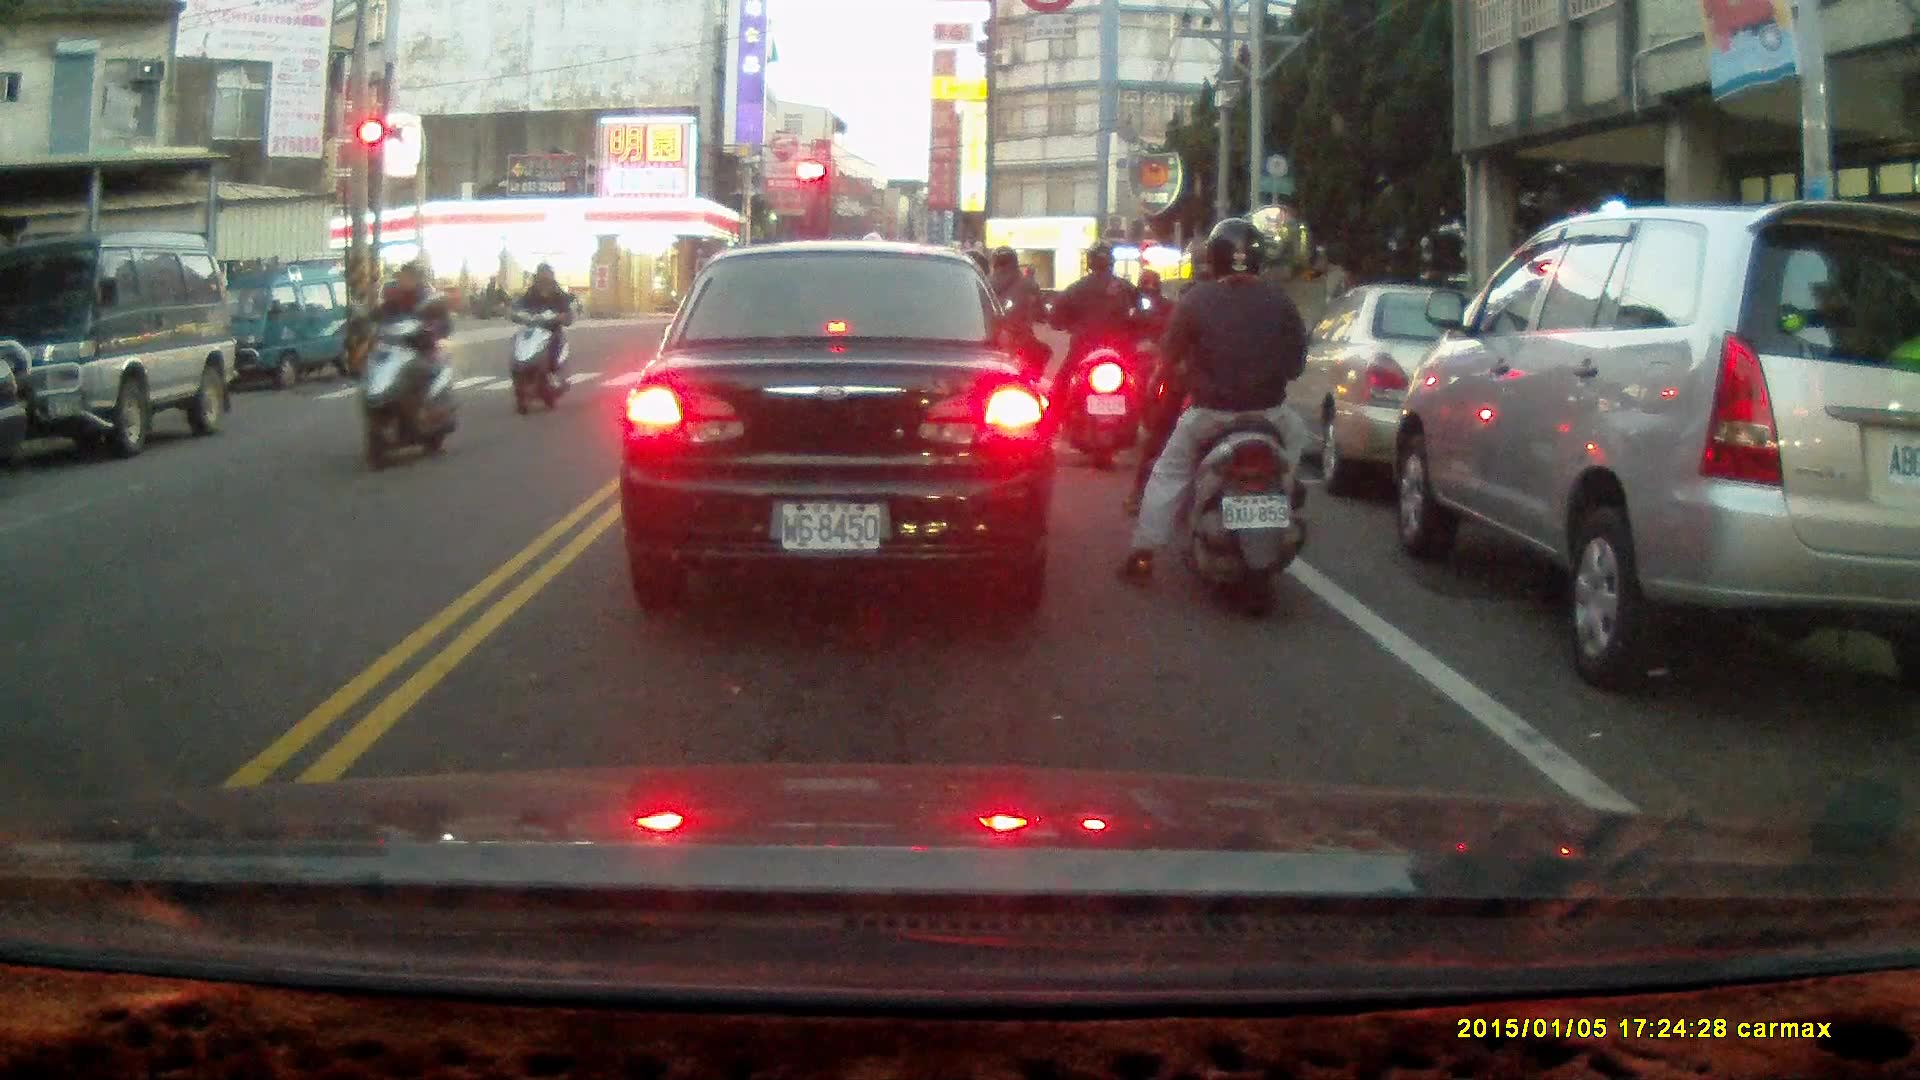pedestrian: (480, 276, 504, 320)
rider: (1107, 212, 1312, 625), (1128, 228, 1255, 538), (349, 260, 457, 476), (1048, 243, 1141, 469), (964, 245, 1050, 447), (1133, 268, 1203, 449), (507, 259, 571, 418)
vehicle: (1388, 195, 1920, 685), (617, 243, 1061, 606), (1268, 282, 1550, 497), (1, 234, 239, 458), (194, 255, 381, 393)
